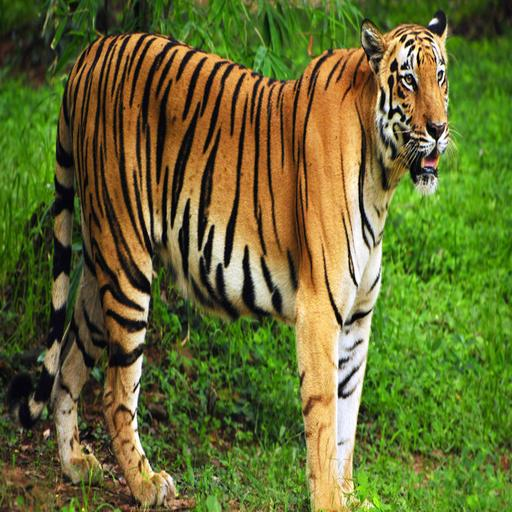Tiger: (10, 2, 458, 512)
